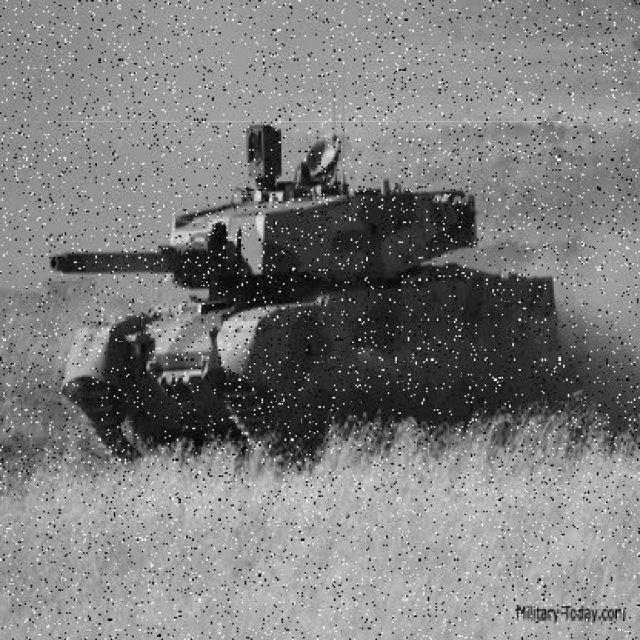Tank: (49, 121, 563, 473)
